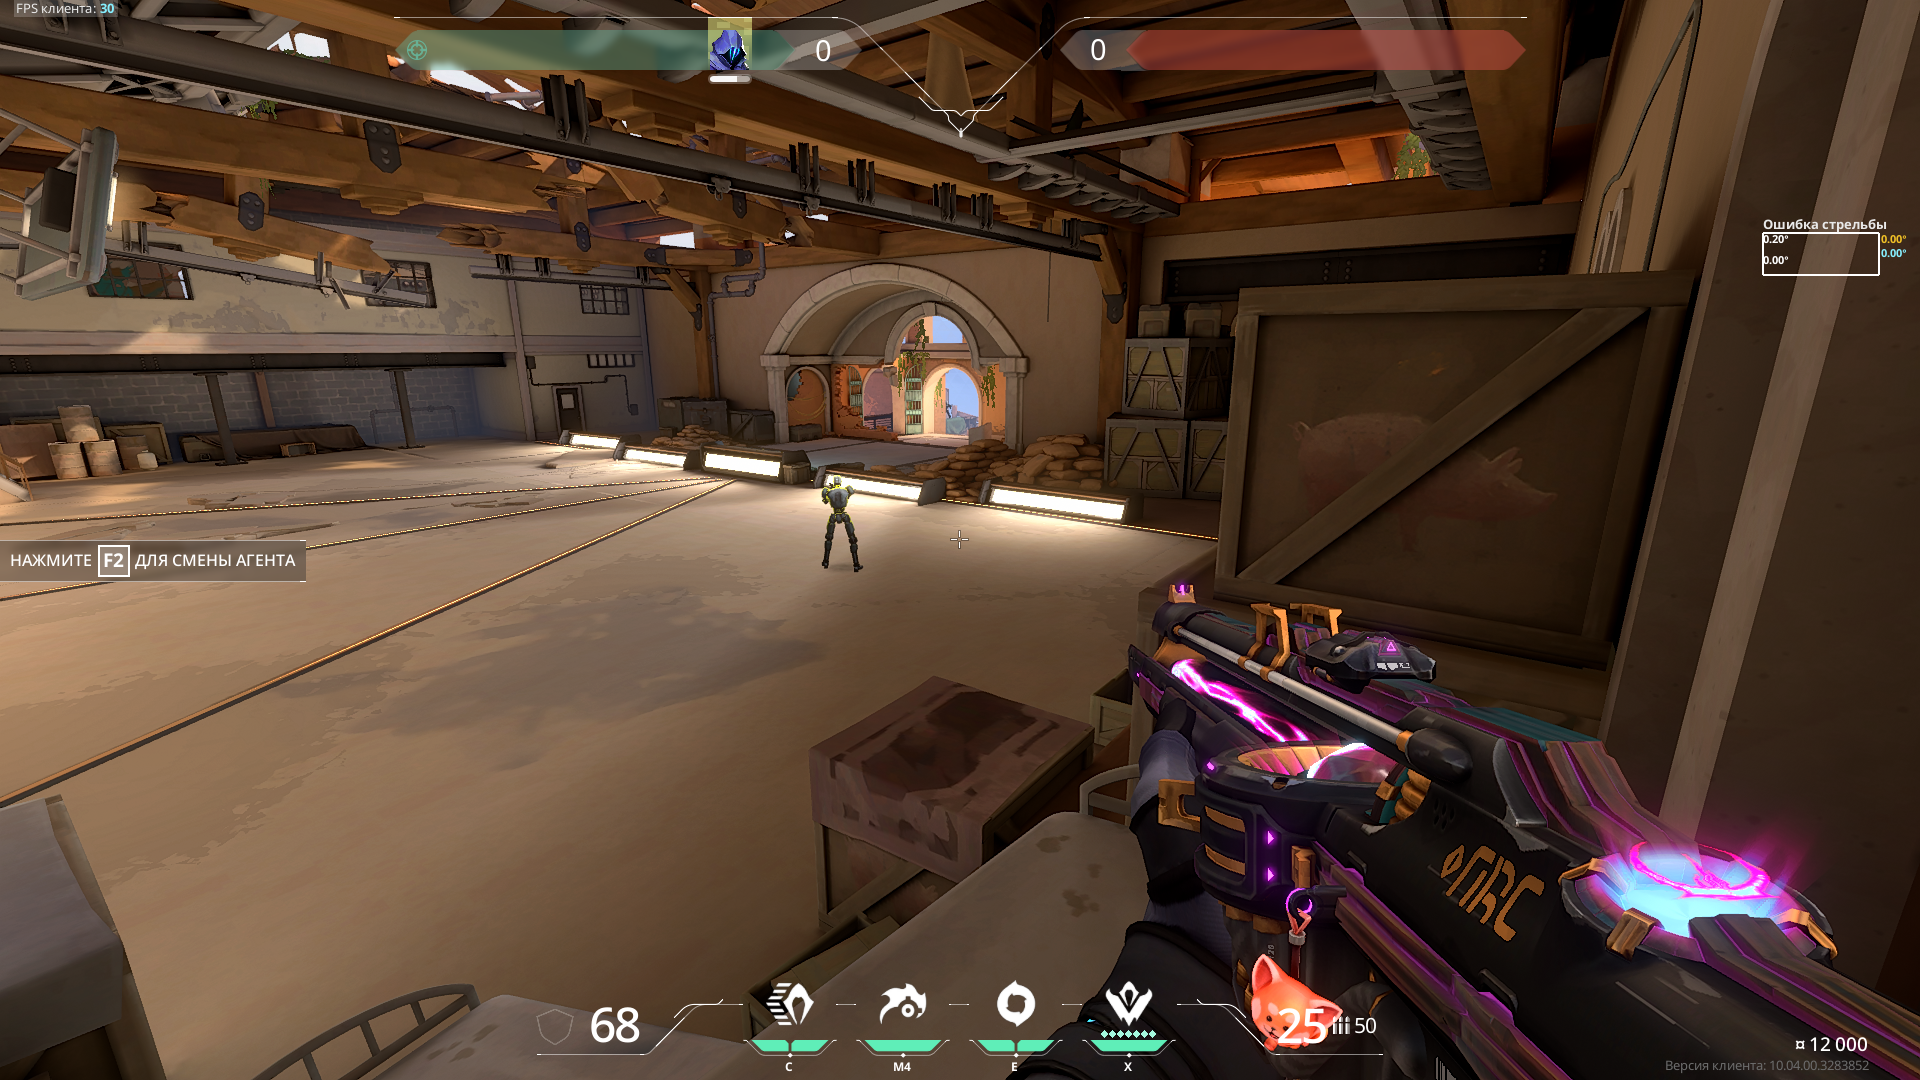head: (834, 476, 842, 486)
